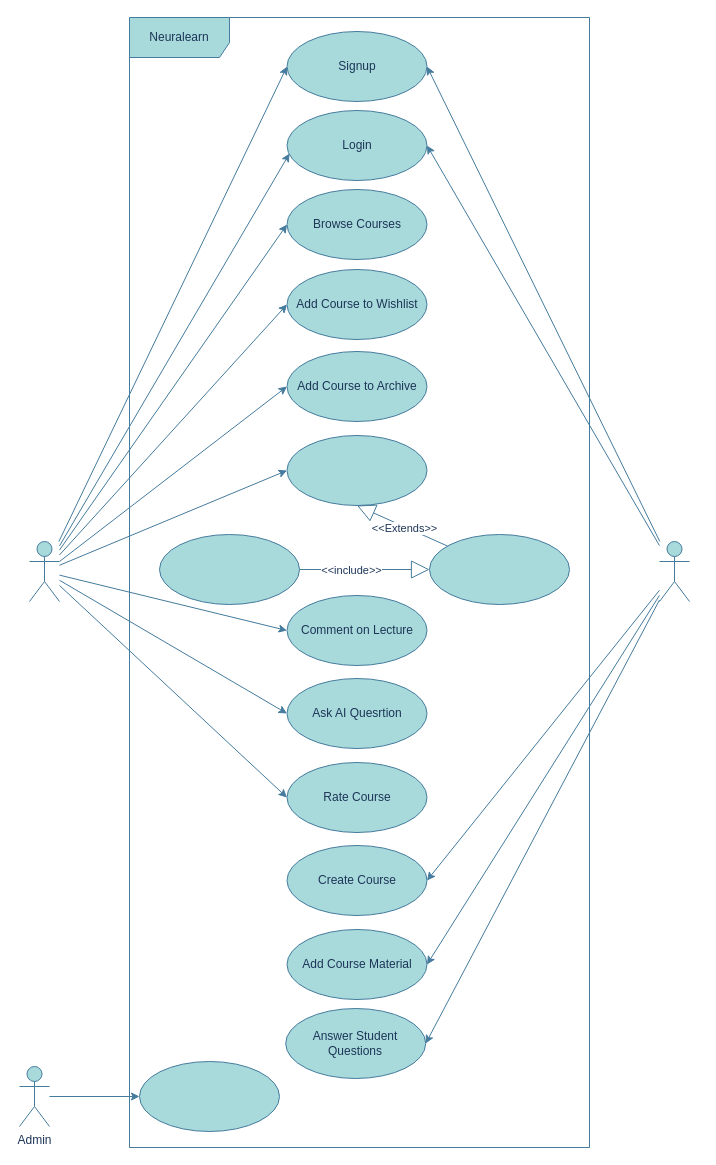
This 716x1165 diagram has some shape labels left out. Each missing label, with the centre of its shape:
Add Course to Cart: (x=356, y=470)
Buy Course: (x=499, y=569)
Instructor: (x=674, y=571)
Manage System: (x=209, y=1096)
Student: (x=44, y=571)
Watch Course Content: (x=229, y=569)
